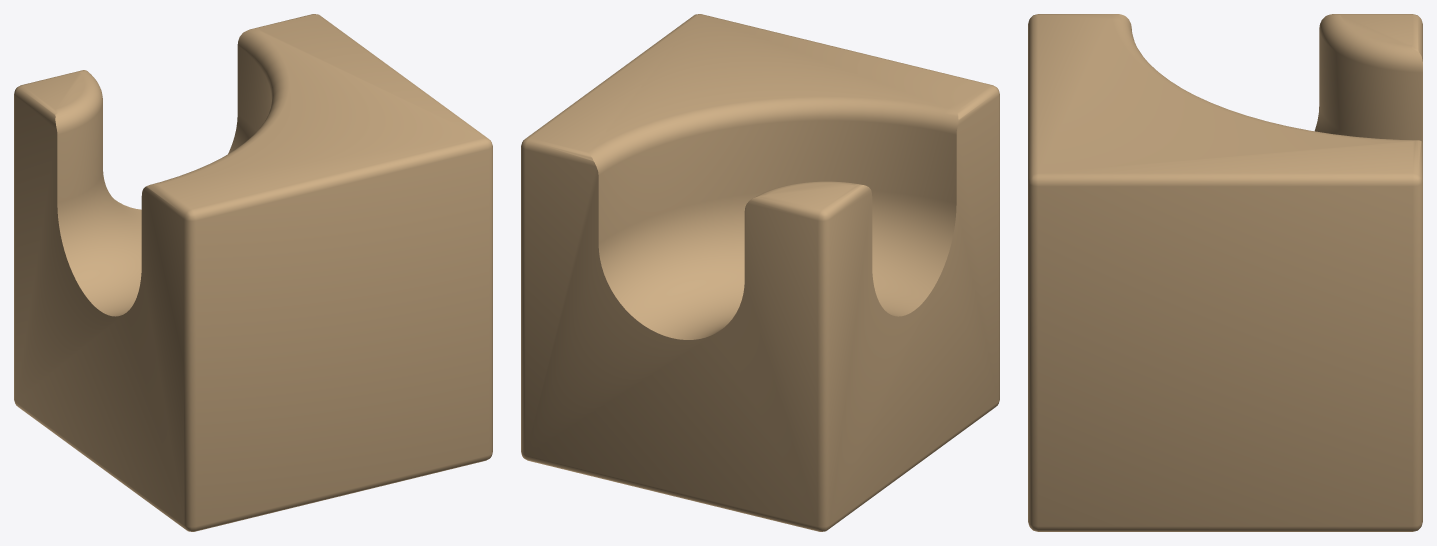
File: blk_curve90_l2.glb
3 views of the same model, side by side, from view 1: azimuth 30°, elevation 25°; view 2: azimuth 150°, elevation 25°; view 3: azimuth 270°, elevation 25° (orthographic). The views are drawn at different scales.
Visible parts, largest first — view 1: blk_curve90_l2_lod0; view 2: blk_curve90_l2_lod0; view 3: blk_curve90_l2_lod0.
Boxes of the visible parts, box(x1,y1,x2,y2) form: blk_curve90_l2_lod0: box(14, 14, 492, 531); blk_curve90_l2_lod0: box(521, 14, 999, 531); blk_curve90_l2_lod0: box(1028, 14, 1422, 531).
Size of what is drawn, in the model's own units: 0.059 by 0.059 by 0.059.
